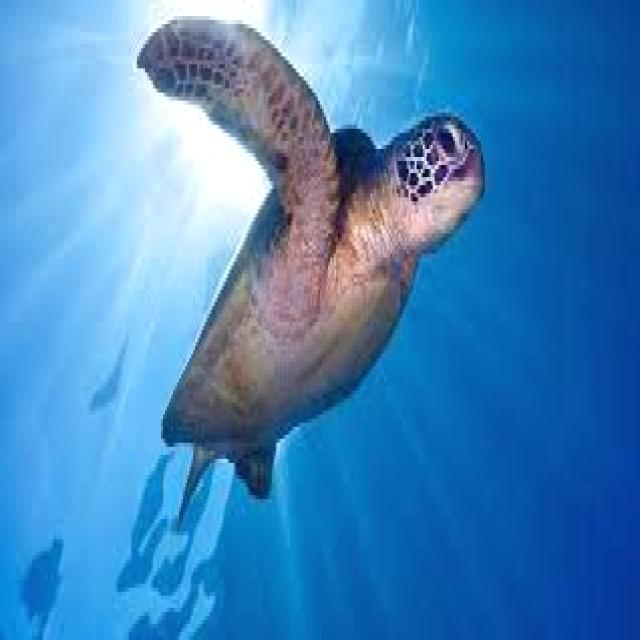Sea turtle: (136, 11, 490, 500)
